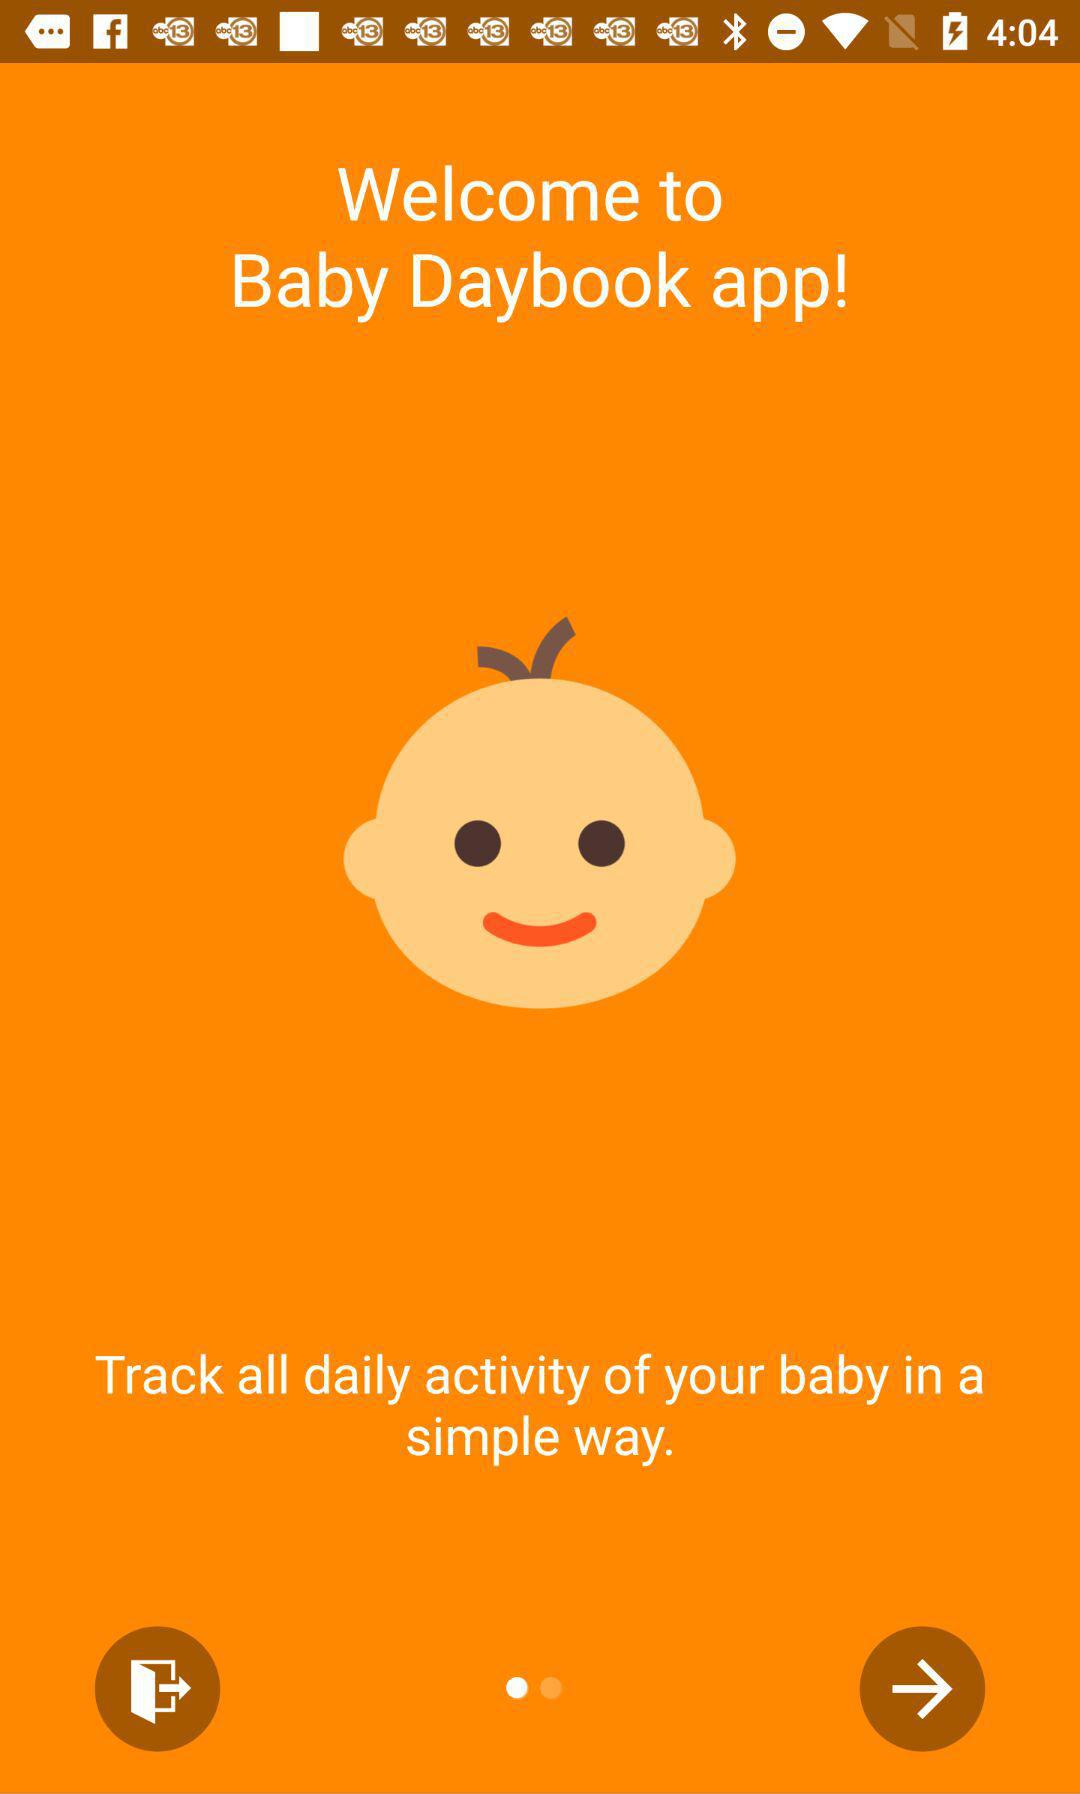Icon: (858, 1625, 986, 1753), (95, 1625, 222, 1753)
Image: (343, 616, 737, 1008)
PageIndicator: (505, 1676, 564, 1700)
Text: (95, 1353, 984, 1469), (233, 164, 848, 325)
UpperTaskBar: (1, 1, 1080, 64)
